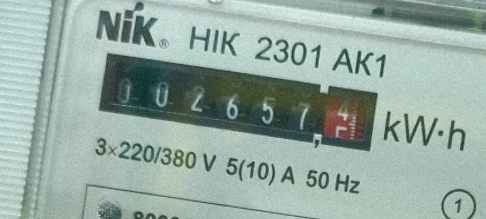0: (152, 77, 171, 109), (114, 74, 134, 104)
2: (188, 82, 207, 113)
4: (334, 94, 352, 121)
5: (258, 93, 278, 125), (332, 123, 349, 139)
6: (223, 89, 241, 121)
7: (294, 98, 312, 132)
screen: (87, 40, 391, 163)
